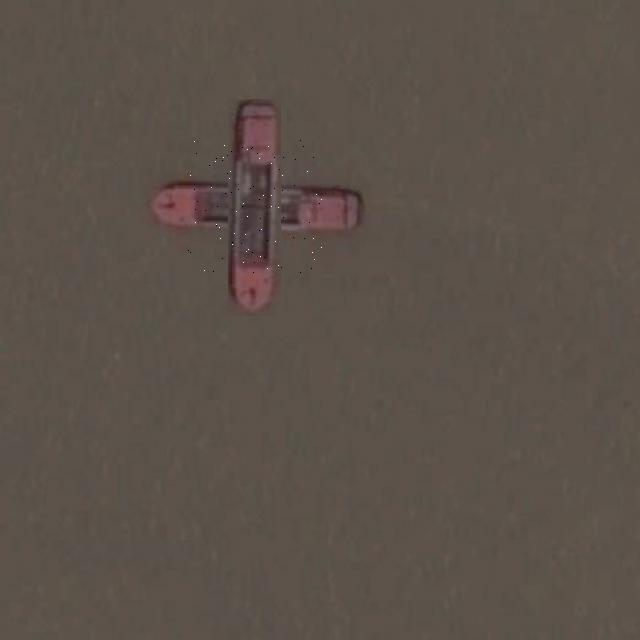boat: (187, 140, 323, 275)
